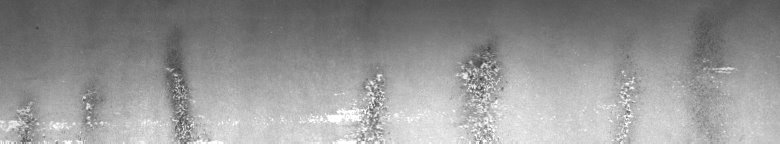hc: (4, 27, 204, 136)
